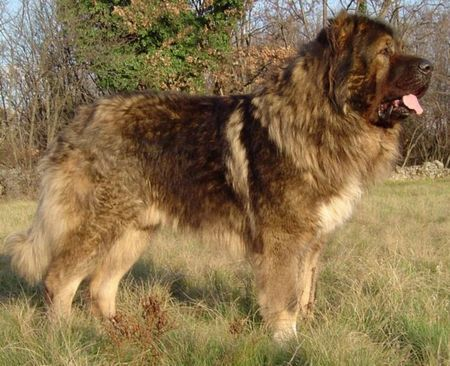cau_ovcharka: (10, 7, 432, 350)
